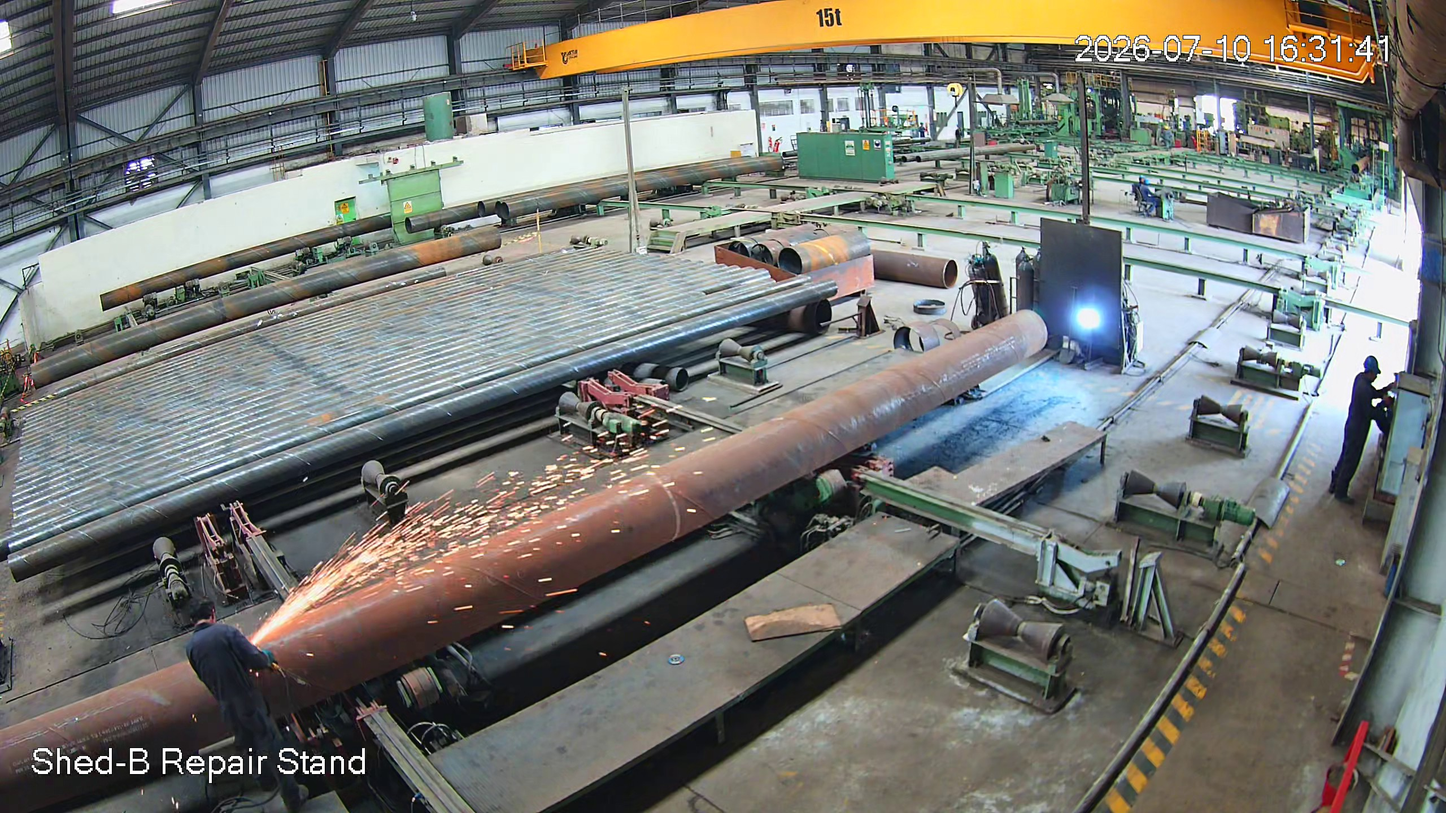Helmet: (1358, 348, 1393, 401)
Person: (182, 597, 327, 813), (1328, 352, 1388, 504)
